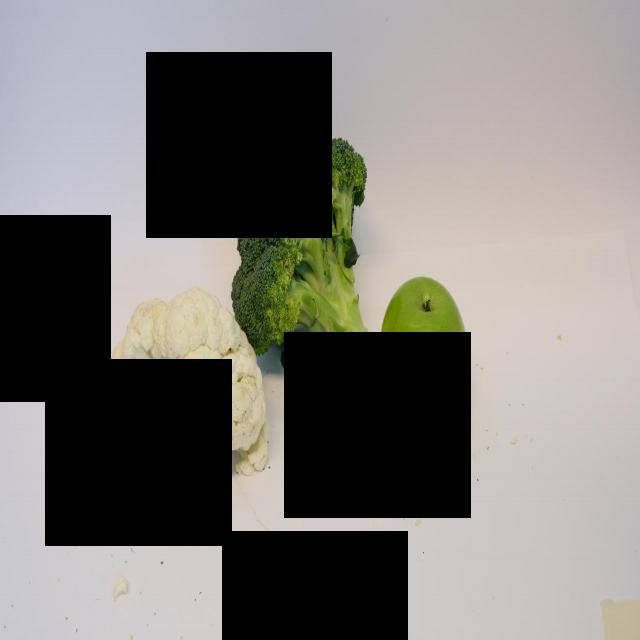apple: (383, 258, 474, 450)
broccoli: (234, 134, 376, 396)
cauliflower: (116, 293, 272, 507), (367, 520, 368, 521)
